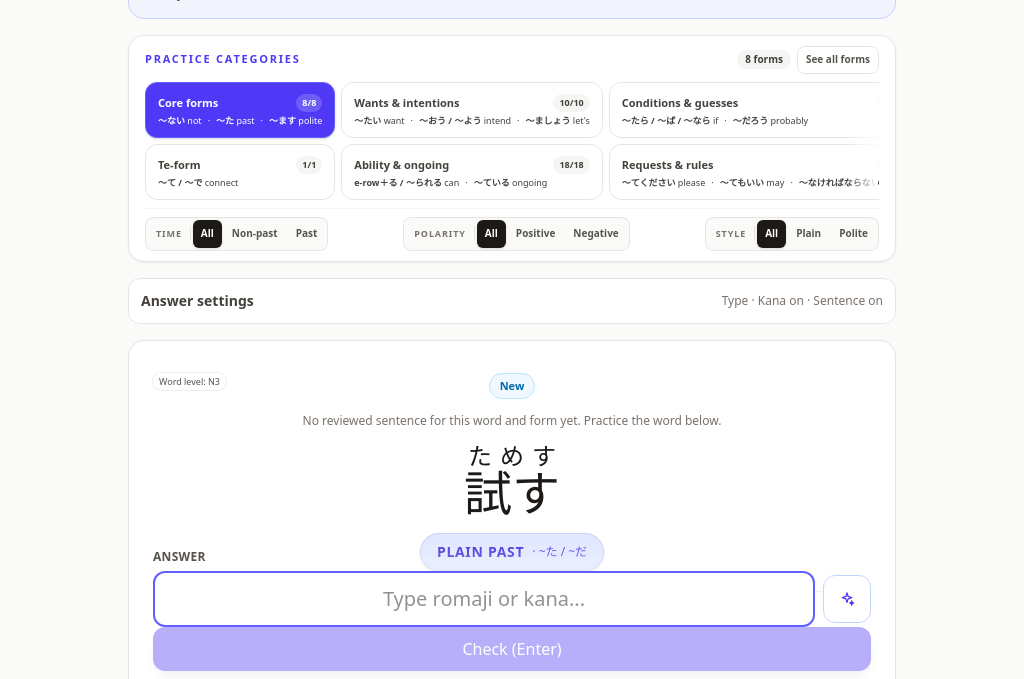
Test: StudyView continuous Practice startup › continues a custom word exercise without reviewed context or recording a result
The width and height of the screenshot is (1024, 679).
Expected: the text "No reviewed sentence for this word and form yet" is shown, [303,412,721,429]
Expected: the text "Not quite." is not shown
In the field with placeholder "Type romaji or kana...": (484,598) [153,570,815,626], type "zzzz"
(page scrolled)
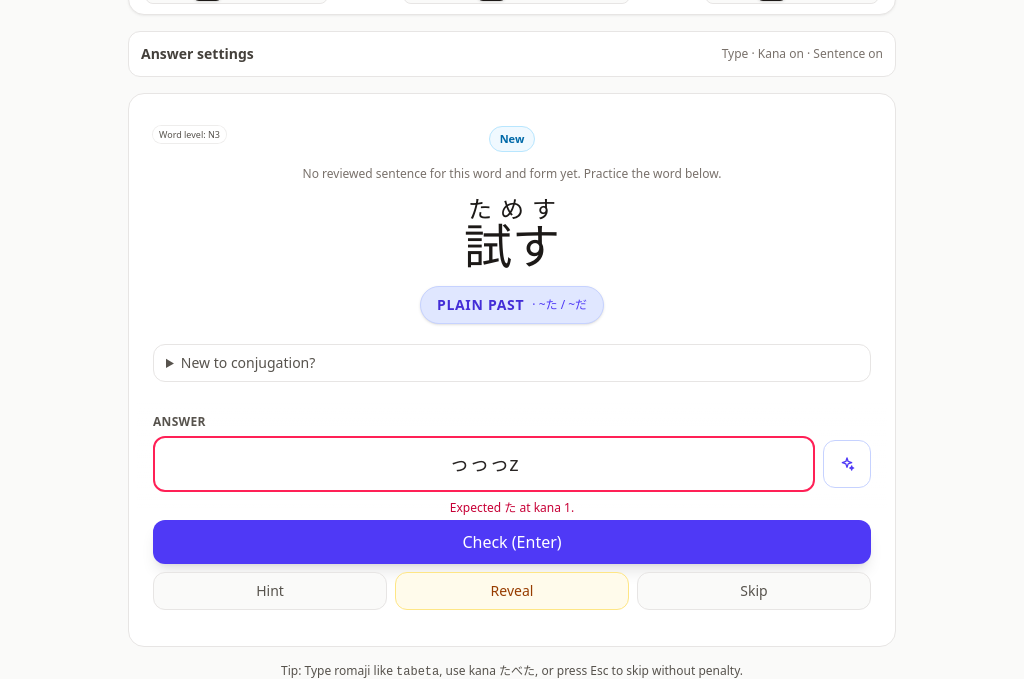
Click the button "Check (Enter)": (512,542) [153,520,871,564]
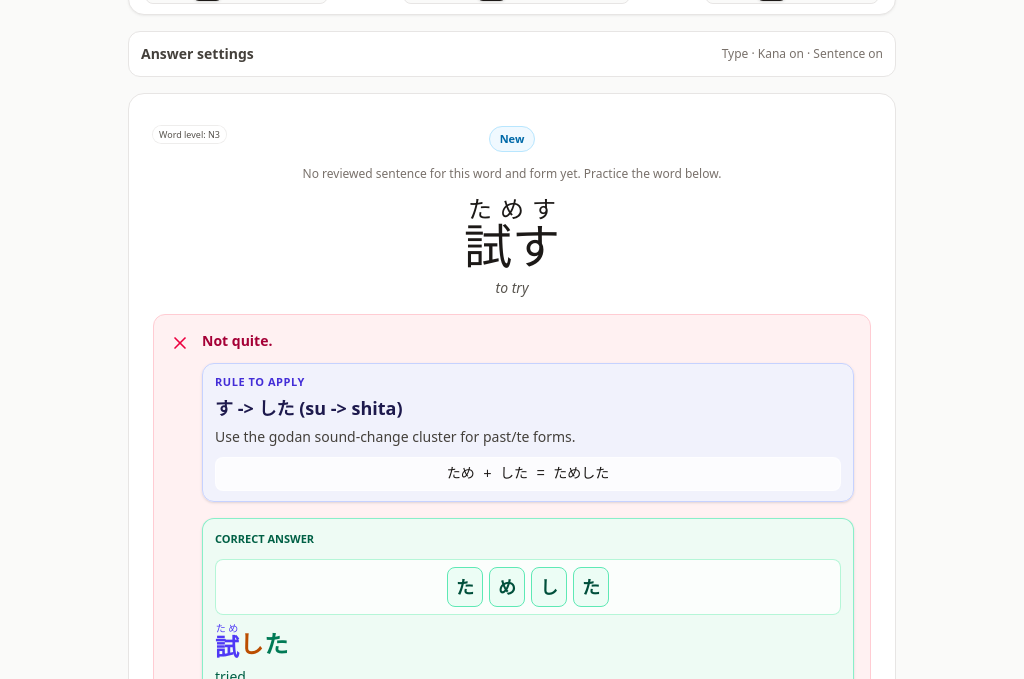
Result: the heading "Not quite." is shown at [202,330,272,350]
